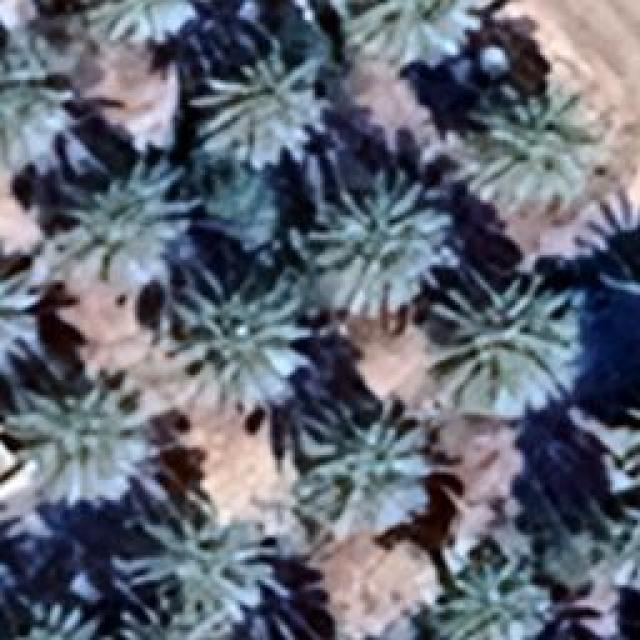PalmTree: (113, 93, 622, 305), (37, 151, 200, 566), (160, 262, 318, 422), (7, 370, 175, 515), (300, 170, 458, 318), (425, 265, 573, 420), (190, 20, 328, 170), (454, 88, 608, 222), (290, 394, 428, 538), (60, 160, 195, 300), (0, 28, 85, 180), (337, 0, 485, 70), (432, 552, 550, 638), (196, 176, 294, 262), (0, 245, 48, 378), (118, 584, 232, 638), (82, 0, 210, 45), (18, 600, 108, 638), (615, 371, 640, 503), (621, 373, 640, 501)
